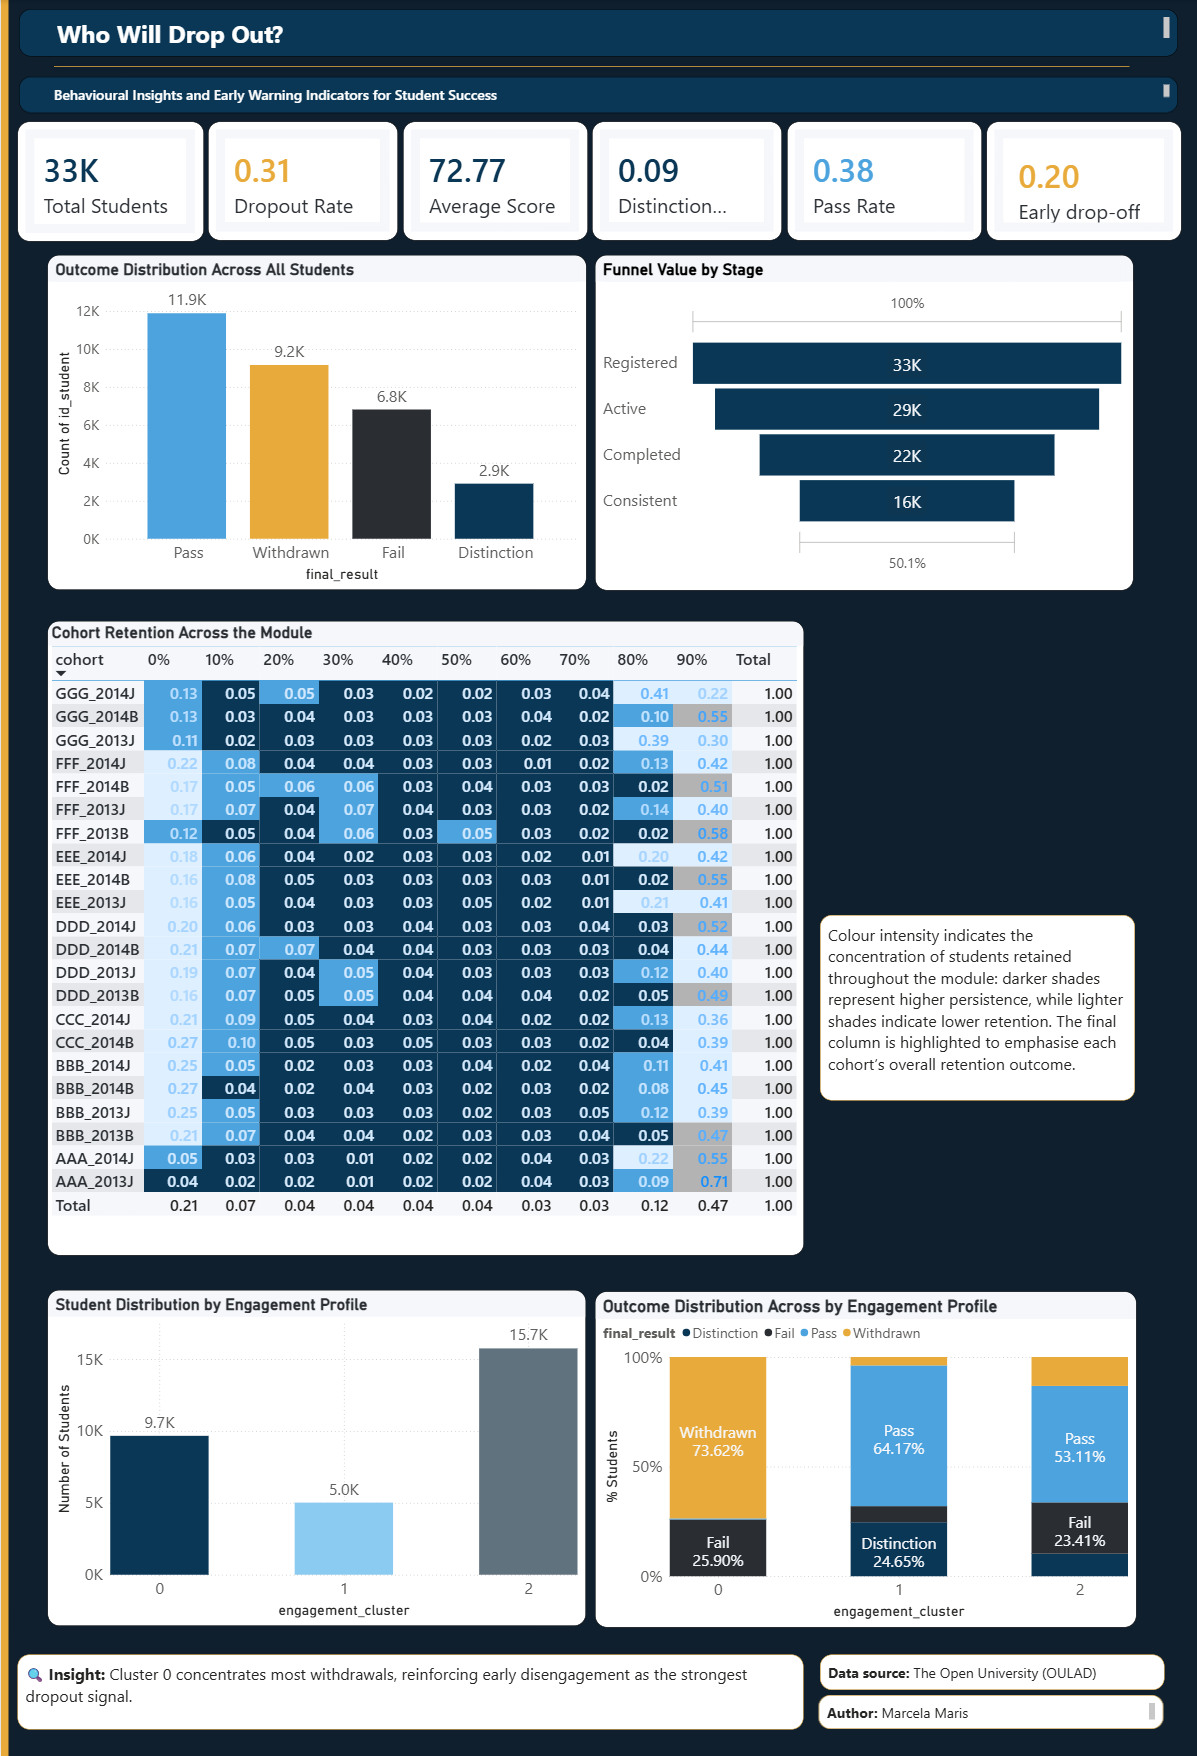

The dashboard page shown, as its layout file describes it:
{"tool":"powerbi","page":{"name":"Page 1","canvas":[1600,2400],"ordinal":0},"visuals":[{"type":"shape","title":"Back","box":[0,0,1600,2400],"z":0},{"type":"shape","box":[62,132,1452,26],"z":1000},{"type":"textbox","box":[23.3,68.9,1545.6,63.3],"z":2000},{"type":"textbox","box":[23.3,157.8,1545.6,48.9],"z":3000},{"type":"cardVisual","fields":{"Data":["feature_dataset_for_powerbi.Total Students"]},"box":[21.1,217.8,248.9,160],"z":4000},{"type":"cardVisual","fields":{"Data":["feature_dataset_for_powerbi.Dropout Rate"]},"box":[276.7,218.9,253.3,158.9],"z":5000},{"type":"cardVisual","fields":{"Data":["feature_dataset_for_powerbi.Pass Rate"]},"box":[1047.8,218.9,260,158.9],"z":6000},{"type":"cardVisual","fields":{"Data":["feature_dataset_for_powerbi.Distinction Rate"]},"box":[788.9,218.9,253.3,158.9],"z":7000},{"type":"cardVisual","fields":{"Data":["feature_dataset_for_powerbi.Average Score"]},"box":[535.6,218.9,246.7,158.9],"z":8000},{"type":"cardVisual","fields":{"Data":["feature_dataset_for_powerbi.Early Disengagement Rate"]},"box":[1313.3,218.9,260,158.9],"z":9000},{"type":"funnel","fields":{"Category":["EngagementStages.Stage"],"Y":["EngagementStages.Funnel Value"]},"box":[791,396,718,447],"z":10000},{"type":"pivotTable","title":"Cohort Retention Across the Module","fields":{"Rows":["feature_dataset_for_powerbi.cohort"],"Columns":["feature_dataset_for_powerbi.retention_bin"],"Values":["feature_dataset_for_powerbi.Retention Rate"]},"box":[62.5,883.8,1008.8,846.2],"z":11000},{"type":"clusteredColumnChart","title":"Student Distribution by Engagement Profile","fields":{"Category":["feature_dataset_for_powerbi.engagement_cluster"],"Y":["Count(feature_dataset_for_powerbi.id_student)"]},"box":[62,1776,718,448],"z":12000},{"type":"hundredPercentStackedColumnChart","title":"Outcome Distribution Across by Engagement Profile","fields":{"Category":["feature_dataset_for_powerbi.engagement_cluster"],"Y":["EngagementStages.% Students"],"Series":["feature_dataset_for_powerbi.final_result"]},"box":[792,1778,722,448],"z":13000},{"type":"clusteredColumnChart","title":"Outcome Distribution Across All Students","fields":{"Category":["feature_dataset_for_powerbi.final_result"],"Y":["Count(feature_dataset_for_powerbi.id_student)"]},"box":[61.7,395.6,718.3,446.7],"z":14000},{"type":"textbox","box":[1091.2,1275,420,247.5],"z":15000},{"type":"shape","box":[0,25,10,2375],"z":16000},{"type":"textbox","box":[21.8,2261.8,1048.2,100],"z":17000},{"type":"textbox","box":[1091.8,2261.8,459.1,47.3],"z":18000},{"type":"textbox","box":[1090.9,2316.4,460,45.5],"z":19000}]}

Visuals, with their boxes in screenshot pixels (x1, y1, x2, y2), scaled from the page's 1600x2400 canvas onto the 1197x1756 screenshot:
"Back" shape: 0 0 1196 1755
shape: 46 97 1133 116
textbox: 17 50 1174 97
textbox: 17 115 1174 151
cardVisual - feature_dataset_for_powerbi.Total Students: 16 159 202 276
cardVisual - feature_dataset_for_powerbi.Dropout Rate: 207 160 397 276
cardVisual - feature_dataset_for_powerbi.Pass Rate: 784 160 978 276
cardVisual - feature_dataset_for_powerbi.Distinction Rate: 590 160 780 276
cardVisual - feature_dataset_for_powerbi.Average Score: 401 160 585 276
cardVisual - feature_dataset_for_powerbi.Early Disengagement Rate: 983 160 1177 276
funnel - EngagementStages.Stage x EngagementStages.Funnel Value: 592 290 1129 617
"Cohort Retention Across the Module" pivotTable: 47 647 801 1266
"Student Distribution by Engagement Profile" clusteredColumnChart: 46 1299 584 1627
"Outcome Distribution Across by Engagement Profile" hundredPercentStackedColumnChart: 593 1301 1133 1629
"Outcome Distribution Across All Students" clusteredColumnChart: 46 289 584 616
textbox: 816 933 1131 1114
shape: 0 18 7 1755
textbox: 16 1655 800 1728
textbox: 817 1655 1160 1689
textbox: 816 1695 1160 1728
